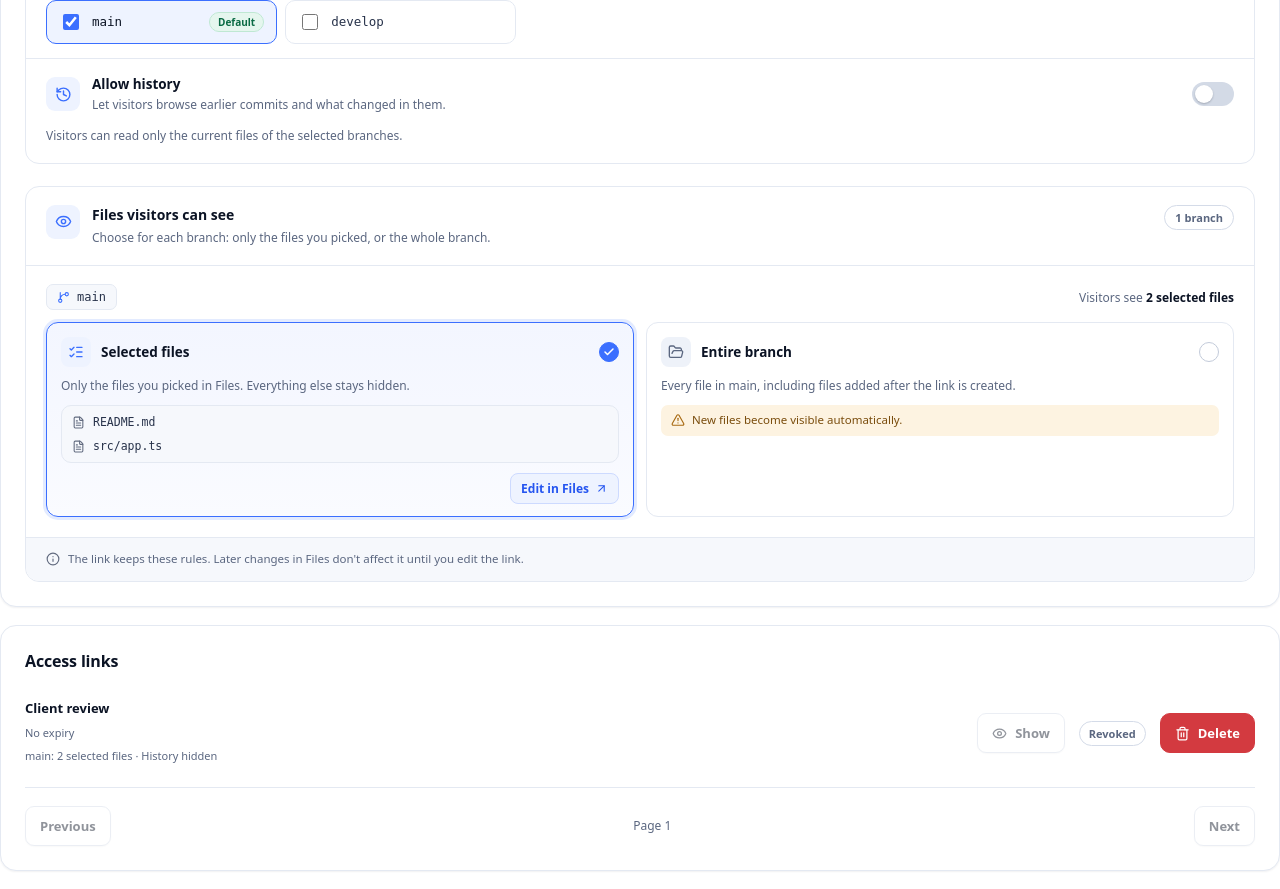
Scenario: deletes a revoked link after a confirmation and keeps the question open when deleting fails
(page scrolled)
Click the button "Delete": point(1207, 733) 1160,713 -> 1255,753
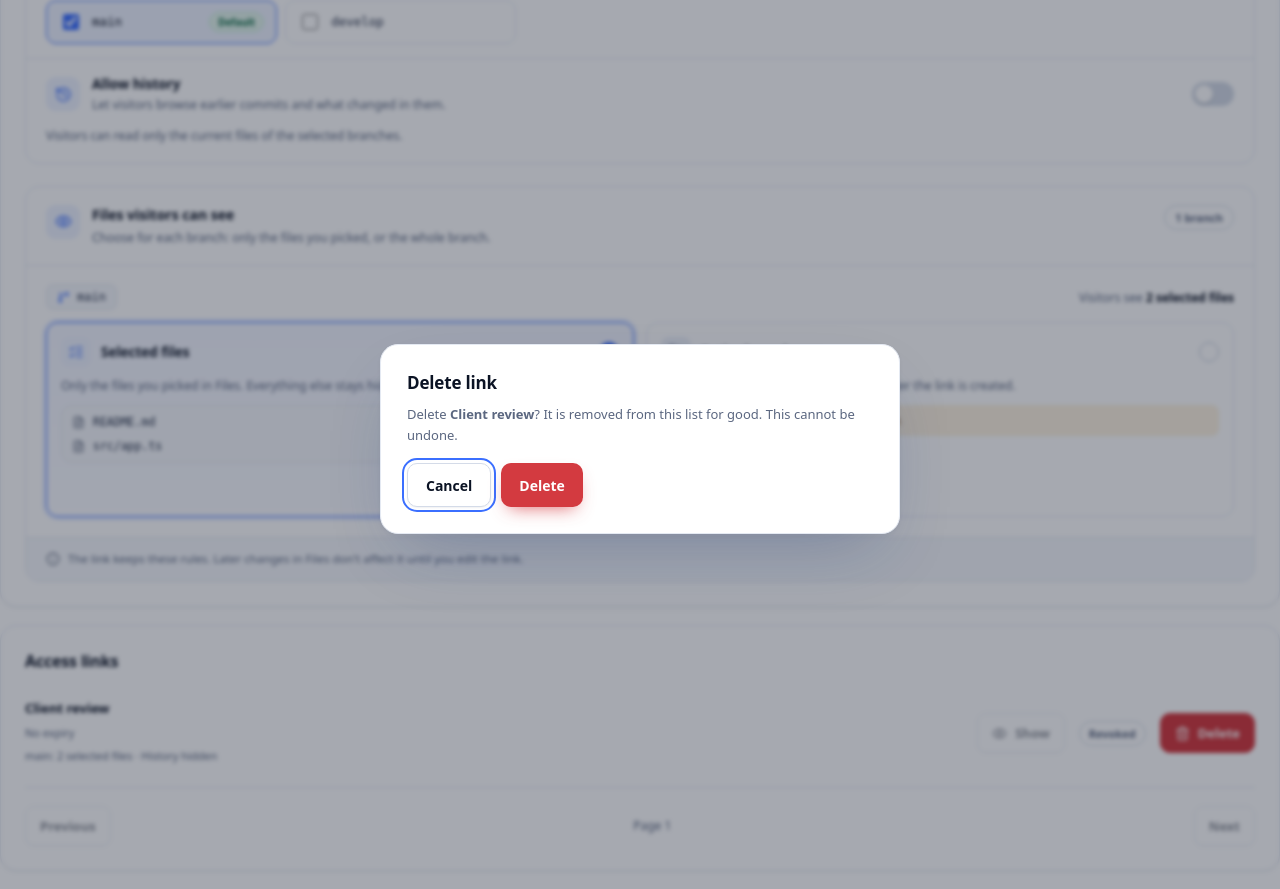
Click the button "Delete": point(542, 485) 501,463 -> 583,507
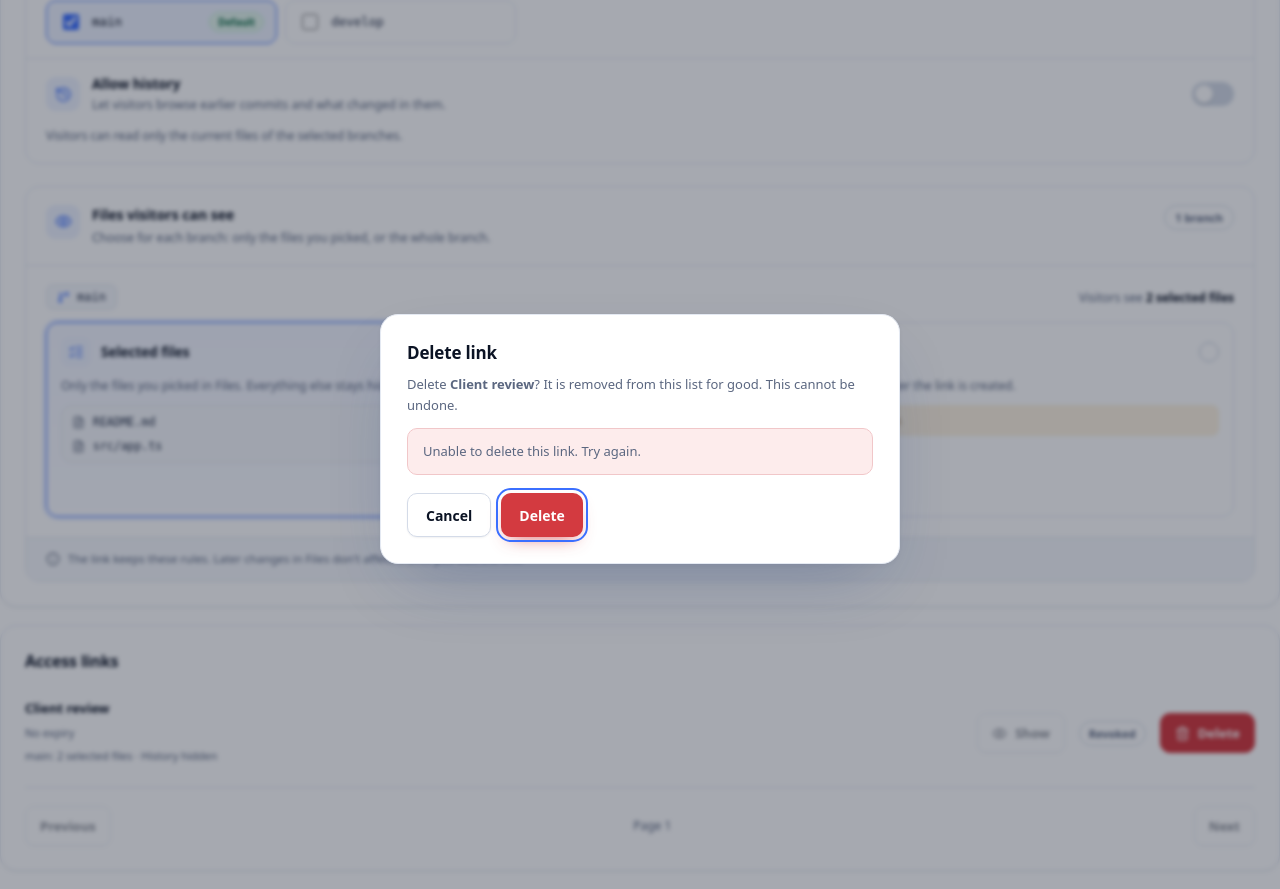
Now the message reads "Unable to delete this link. Try again.", box 423,442 -> 641,460
Now the text "Unable to delete this link. Try again." is shown once, box 407,428 -> 873,475
Click the button "Delete": point(542, 515) 501,493 -> 583,537
(page scrolled)
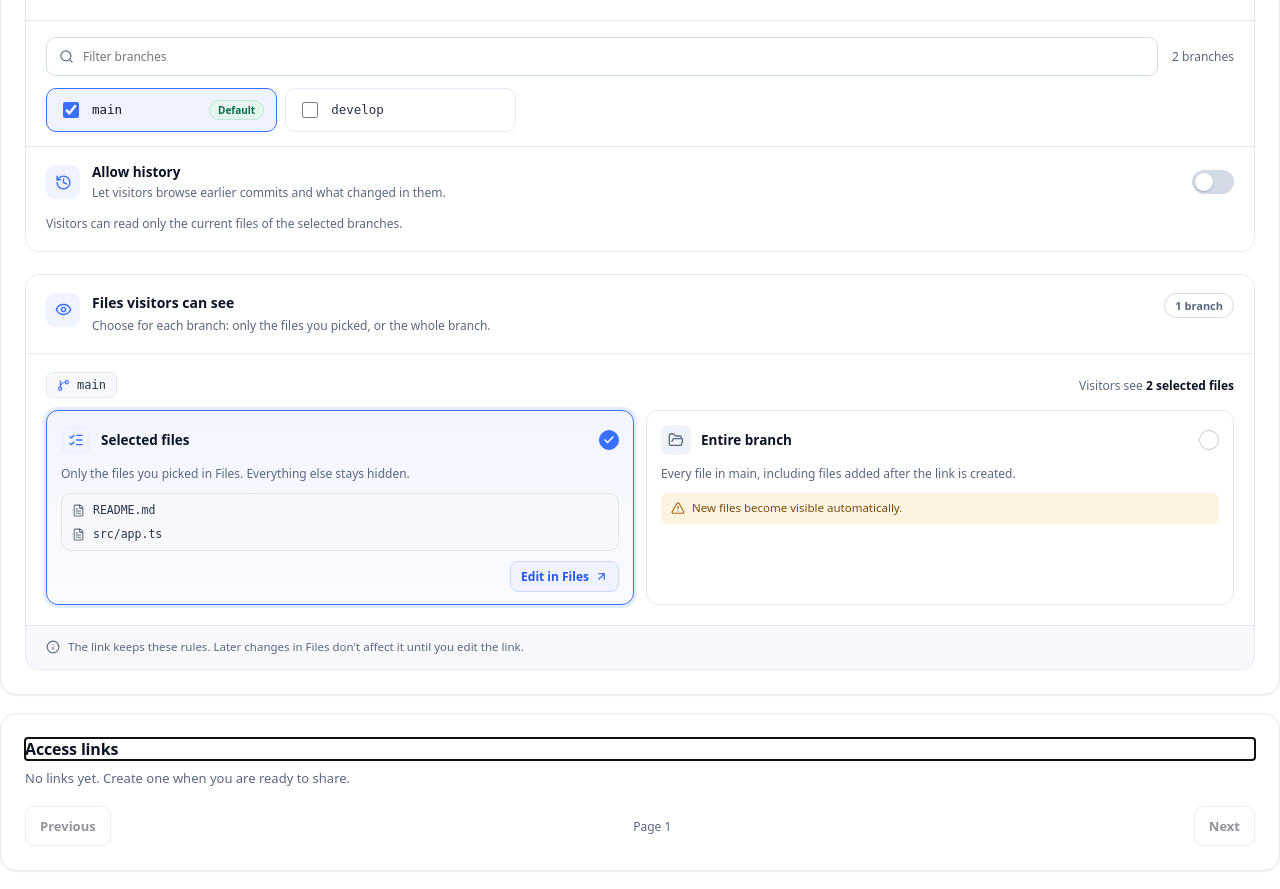
Now the text "No links yet. Create one when you are ready to share." is shown, box 25,768 -> 350,786
Now the dialog is gone
